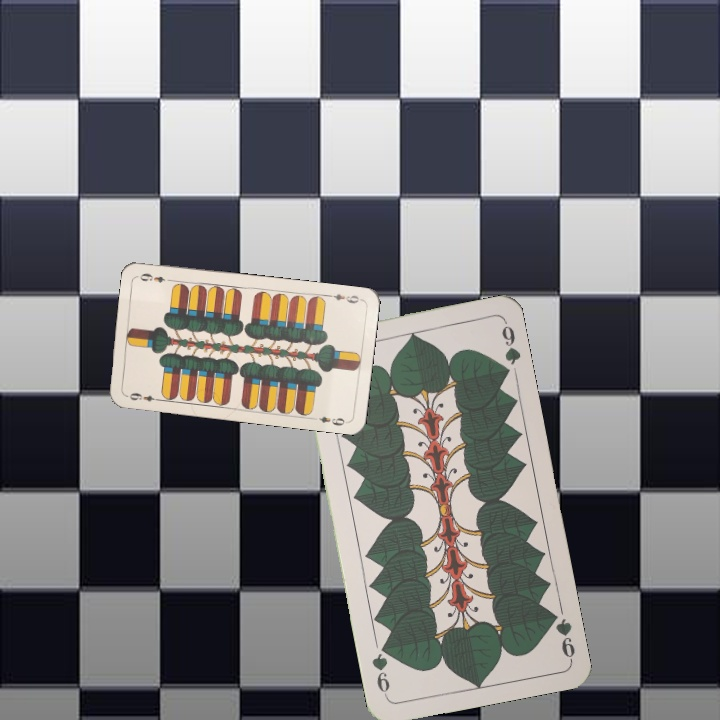E9: (323, 290, 364, 306), (122, 388, 163, 404)
G9: (545, 606, 578, 663)
